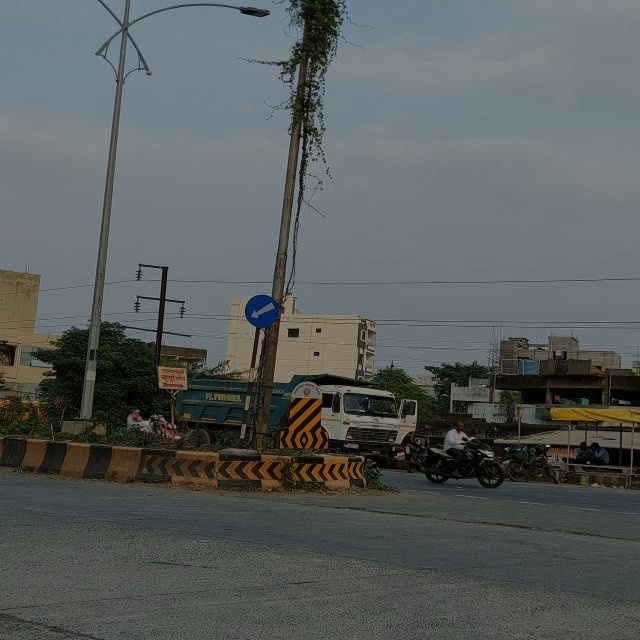R.301e: (243, 292, 285, 334)
